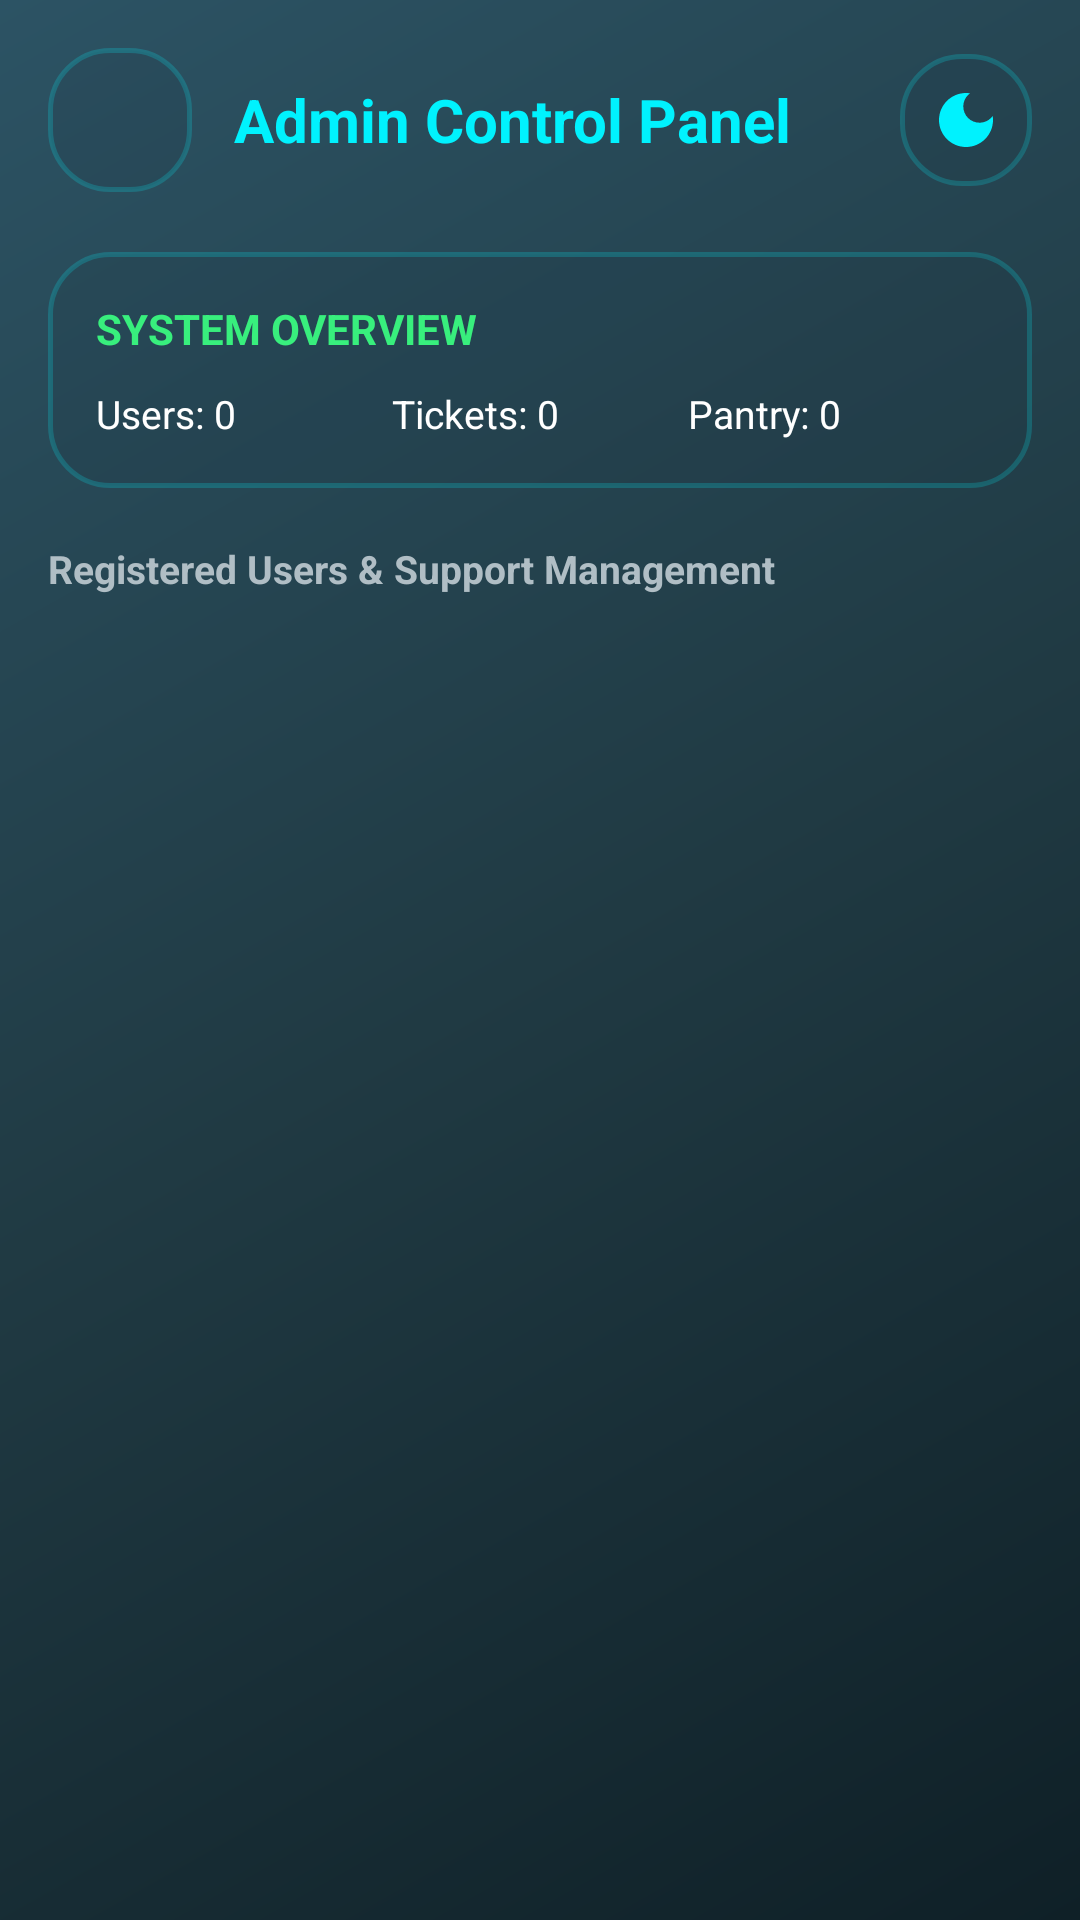

Screen size 1080x1920. Icon name, then its center in pixels as point (x, y):
Toggle Theme: point (966, 120)
